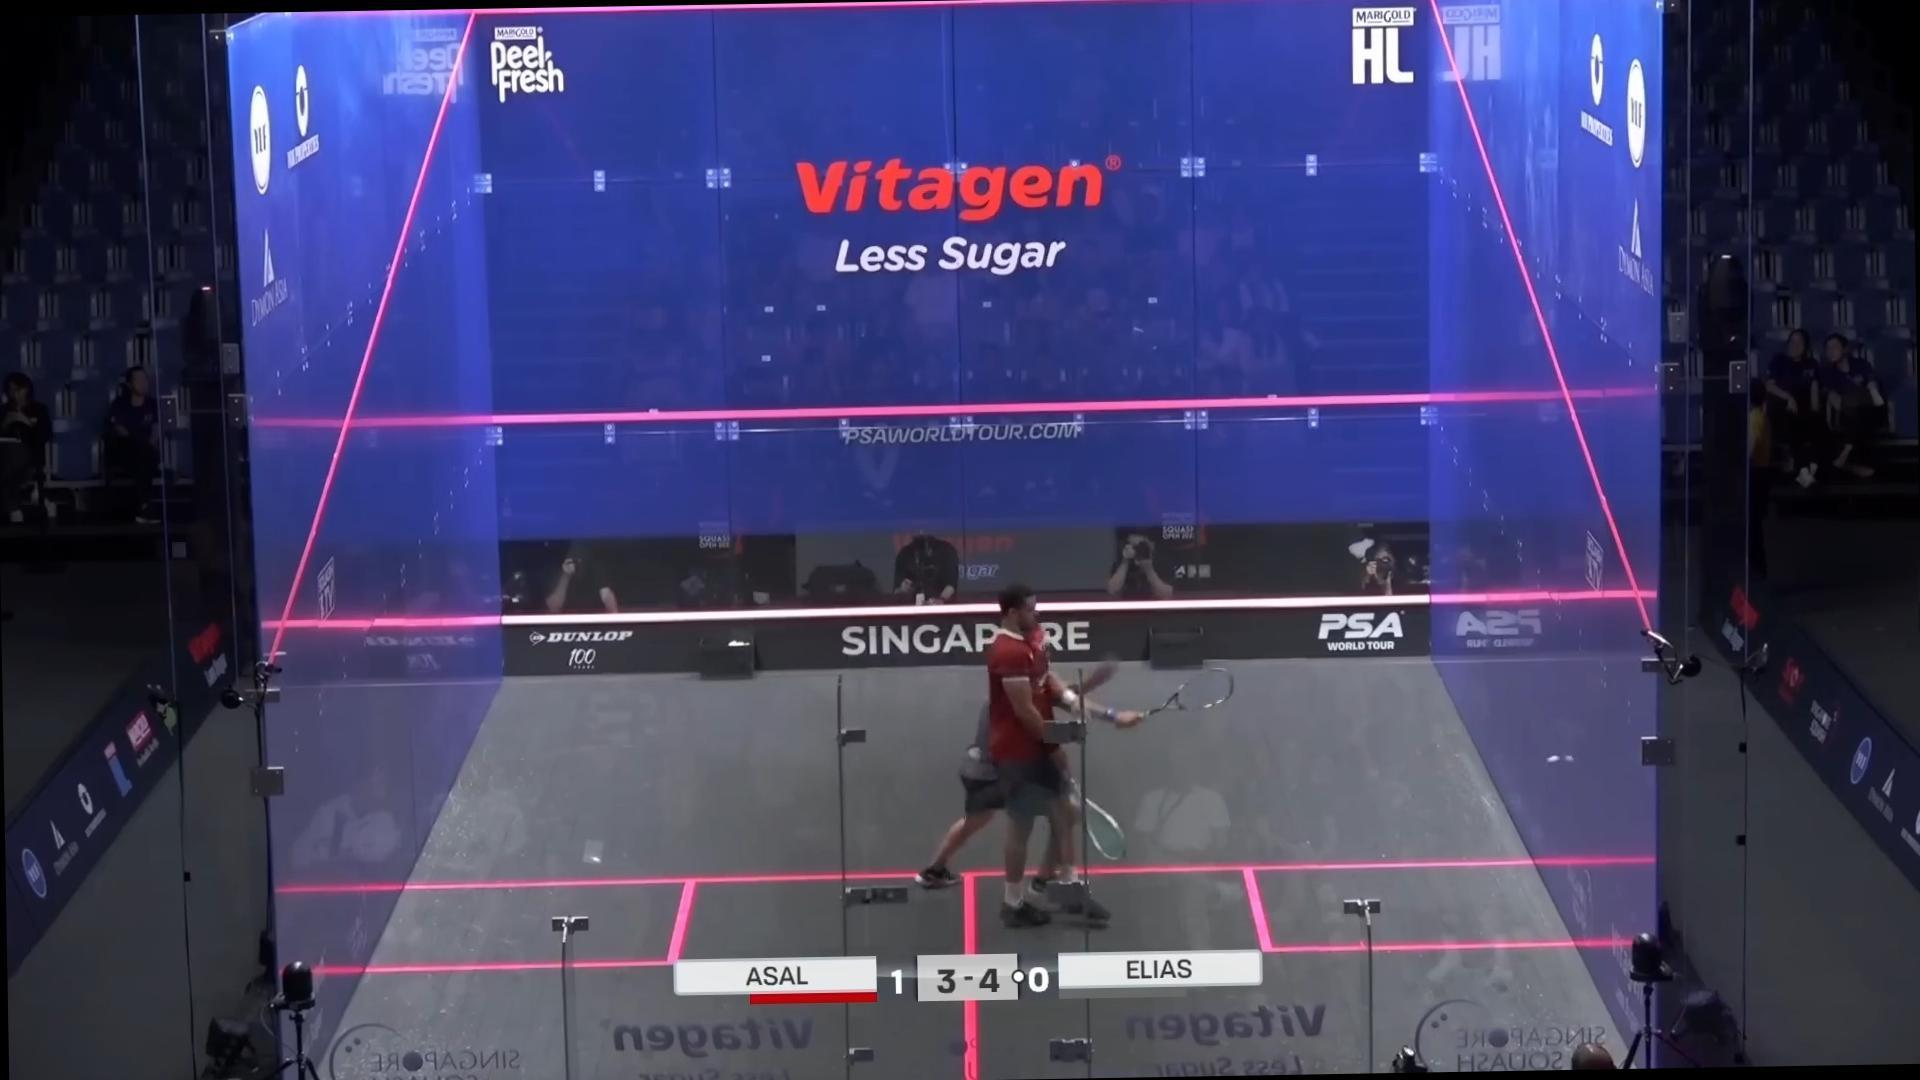Squash-Ball: (1535, 738, 1576, 779)
